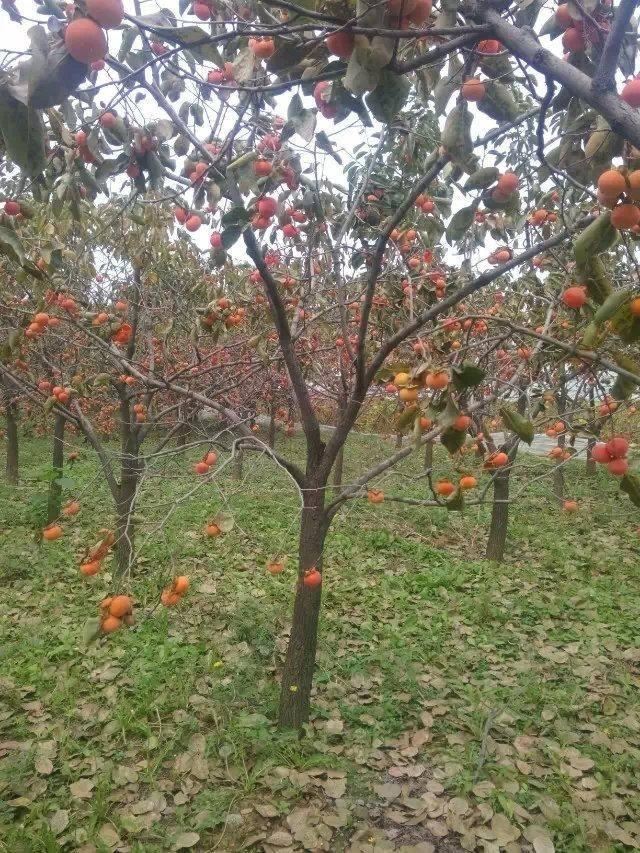apple: (66, 19, 106, 64)
